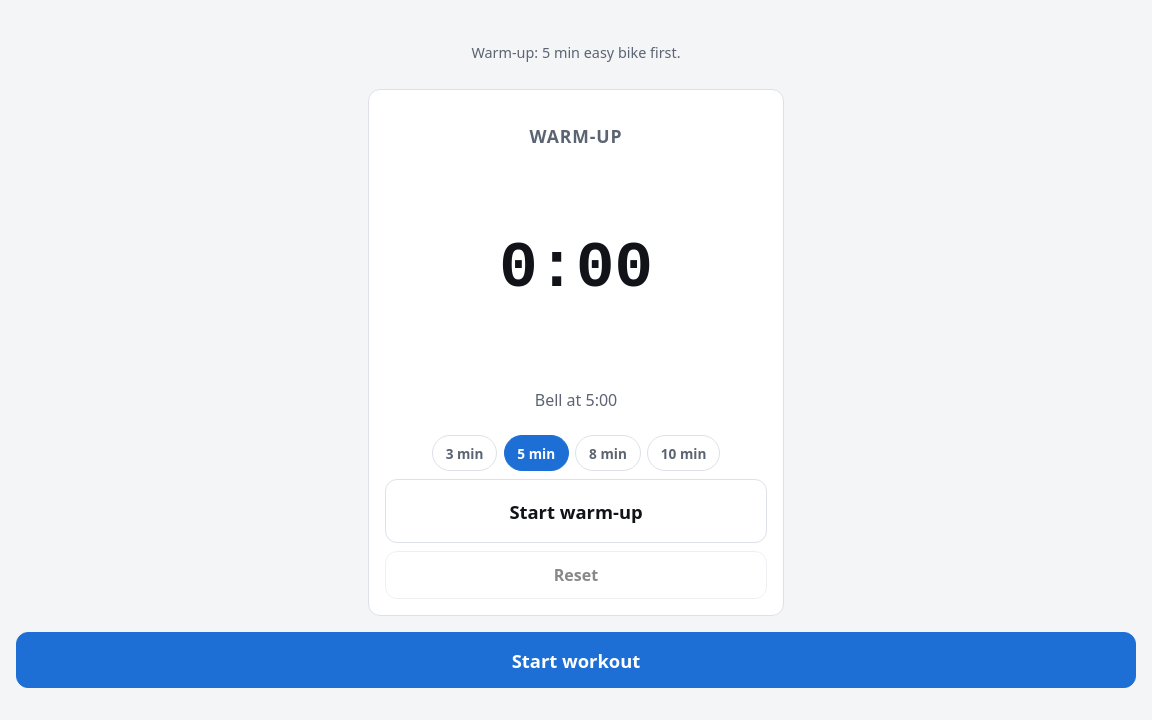
Run: warm-up stopwatch on the Ready screen › Start workout stops a running warm-up and starts the timer
(page scrolled)
Click the button "Start warm-up" at (576, 511), box [385,479,767,543]
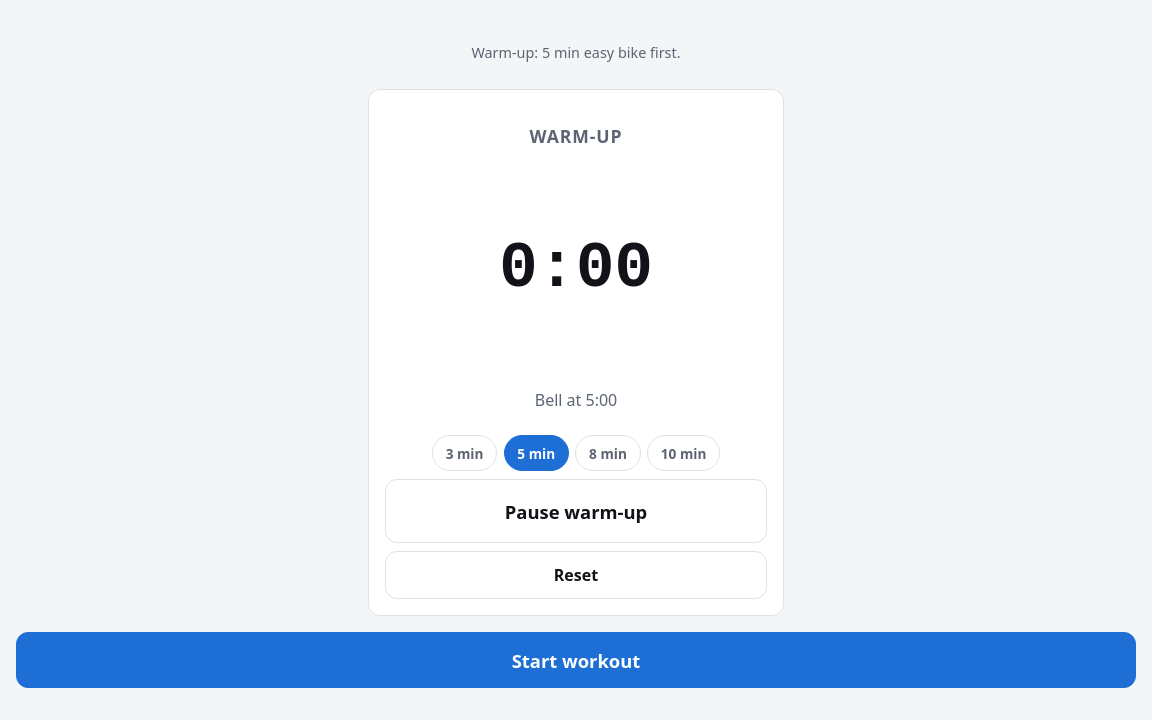
Click the button "Start workout" at (576, 660), box [16,632,1136,688]
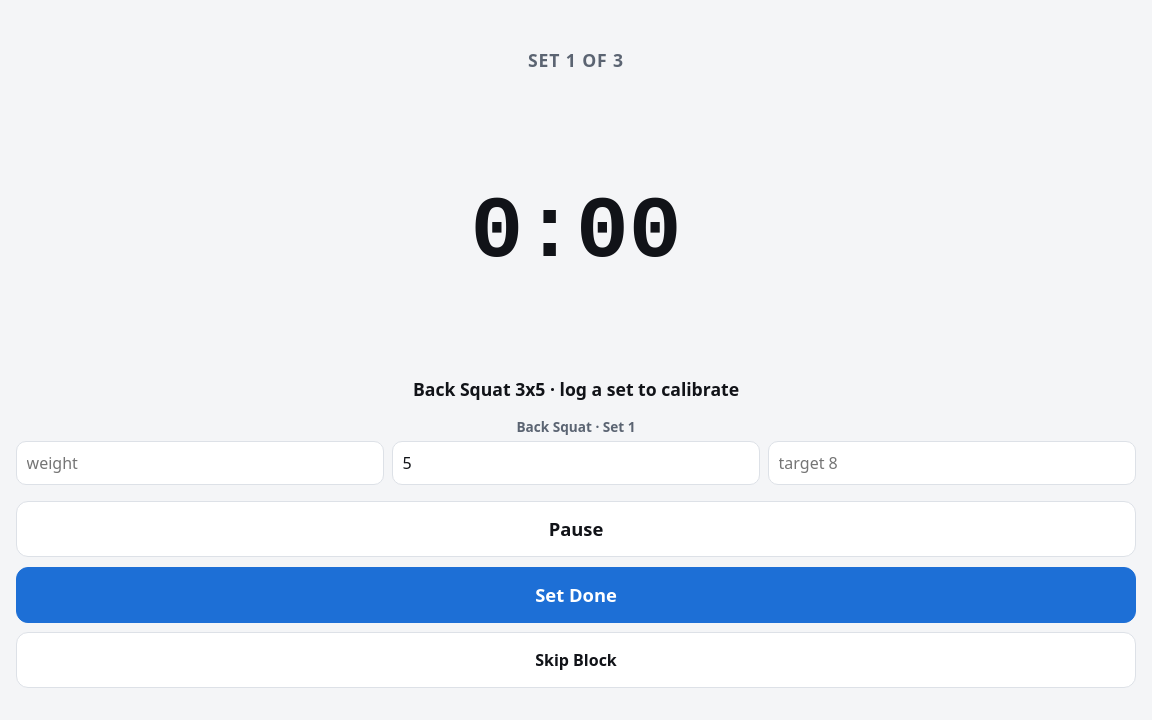
Now the text "Set 1 of 3" is shown, box [528,48,624,72]
